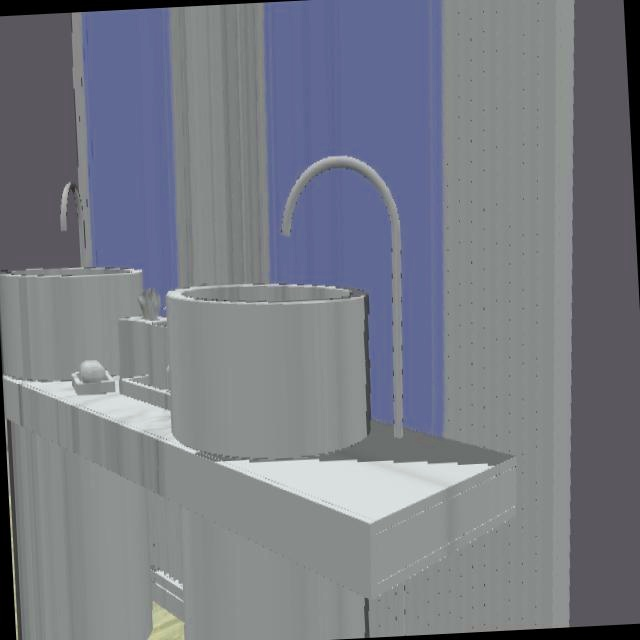shelf: (3, 379, 515, 599)
washbasin: (167, 283, 371, 458), (285, 157, 403, 437), (0, 183, 143, 380)
